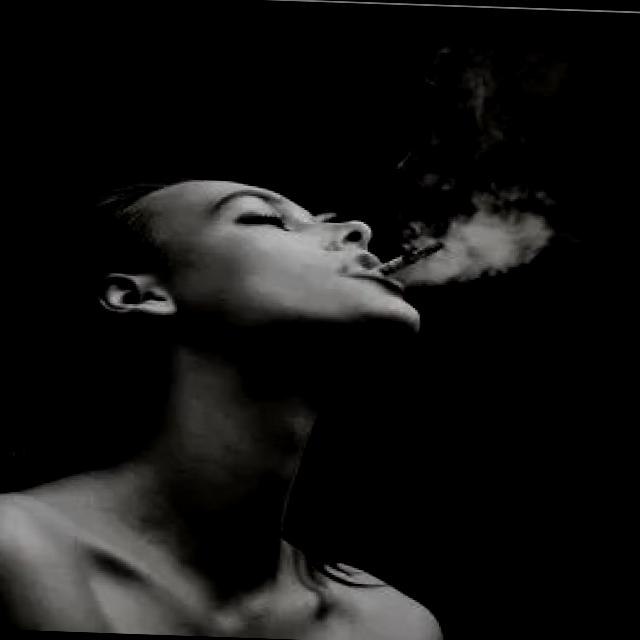cigarette: (366, 232, 457, 282)
